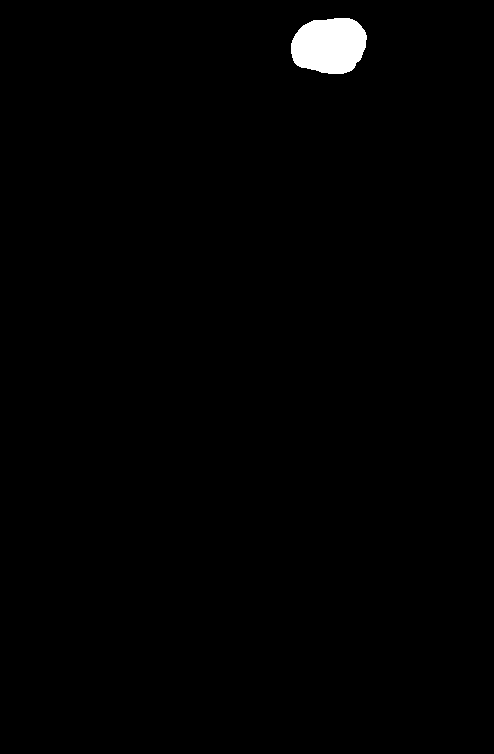veins_detect: (279, 16, 369, 77)
veins_seg: (291, 19, 366, 74)
